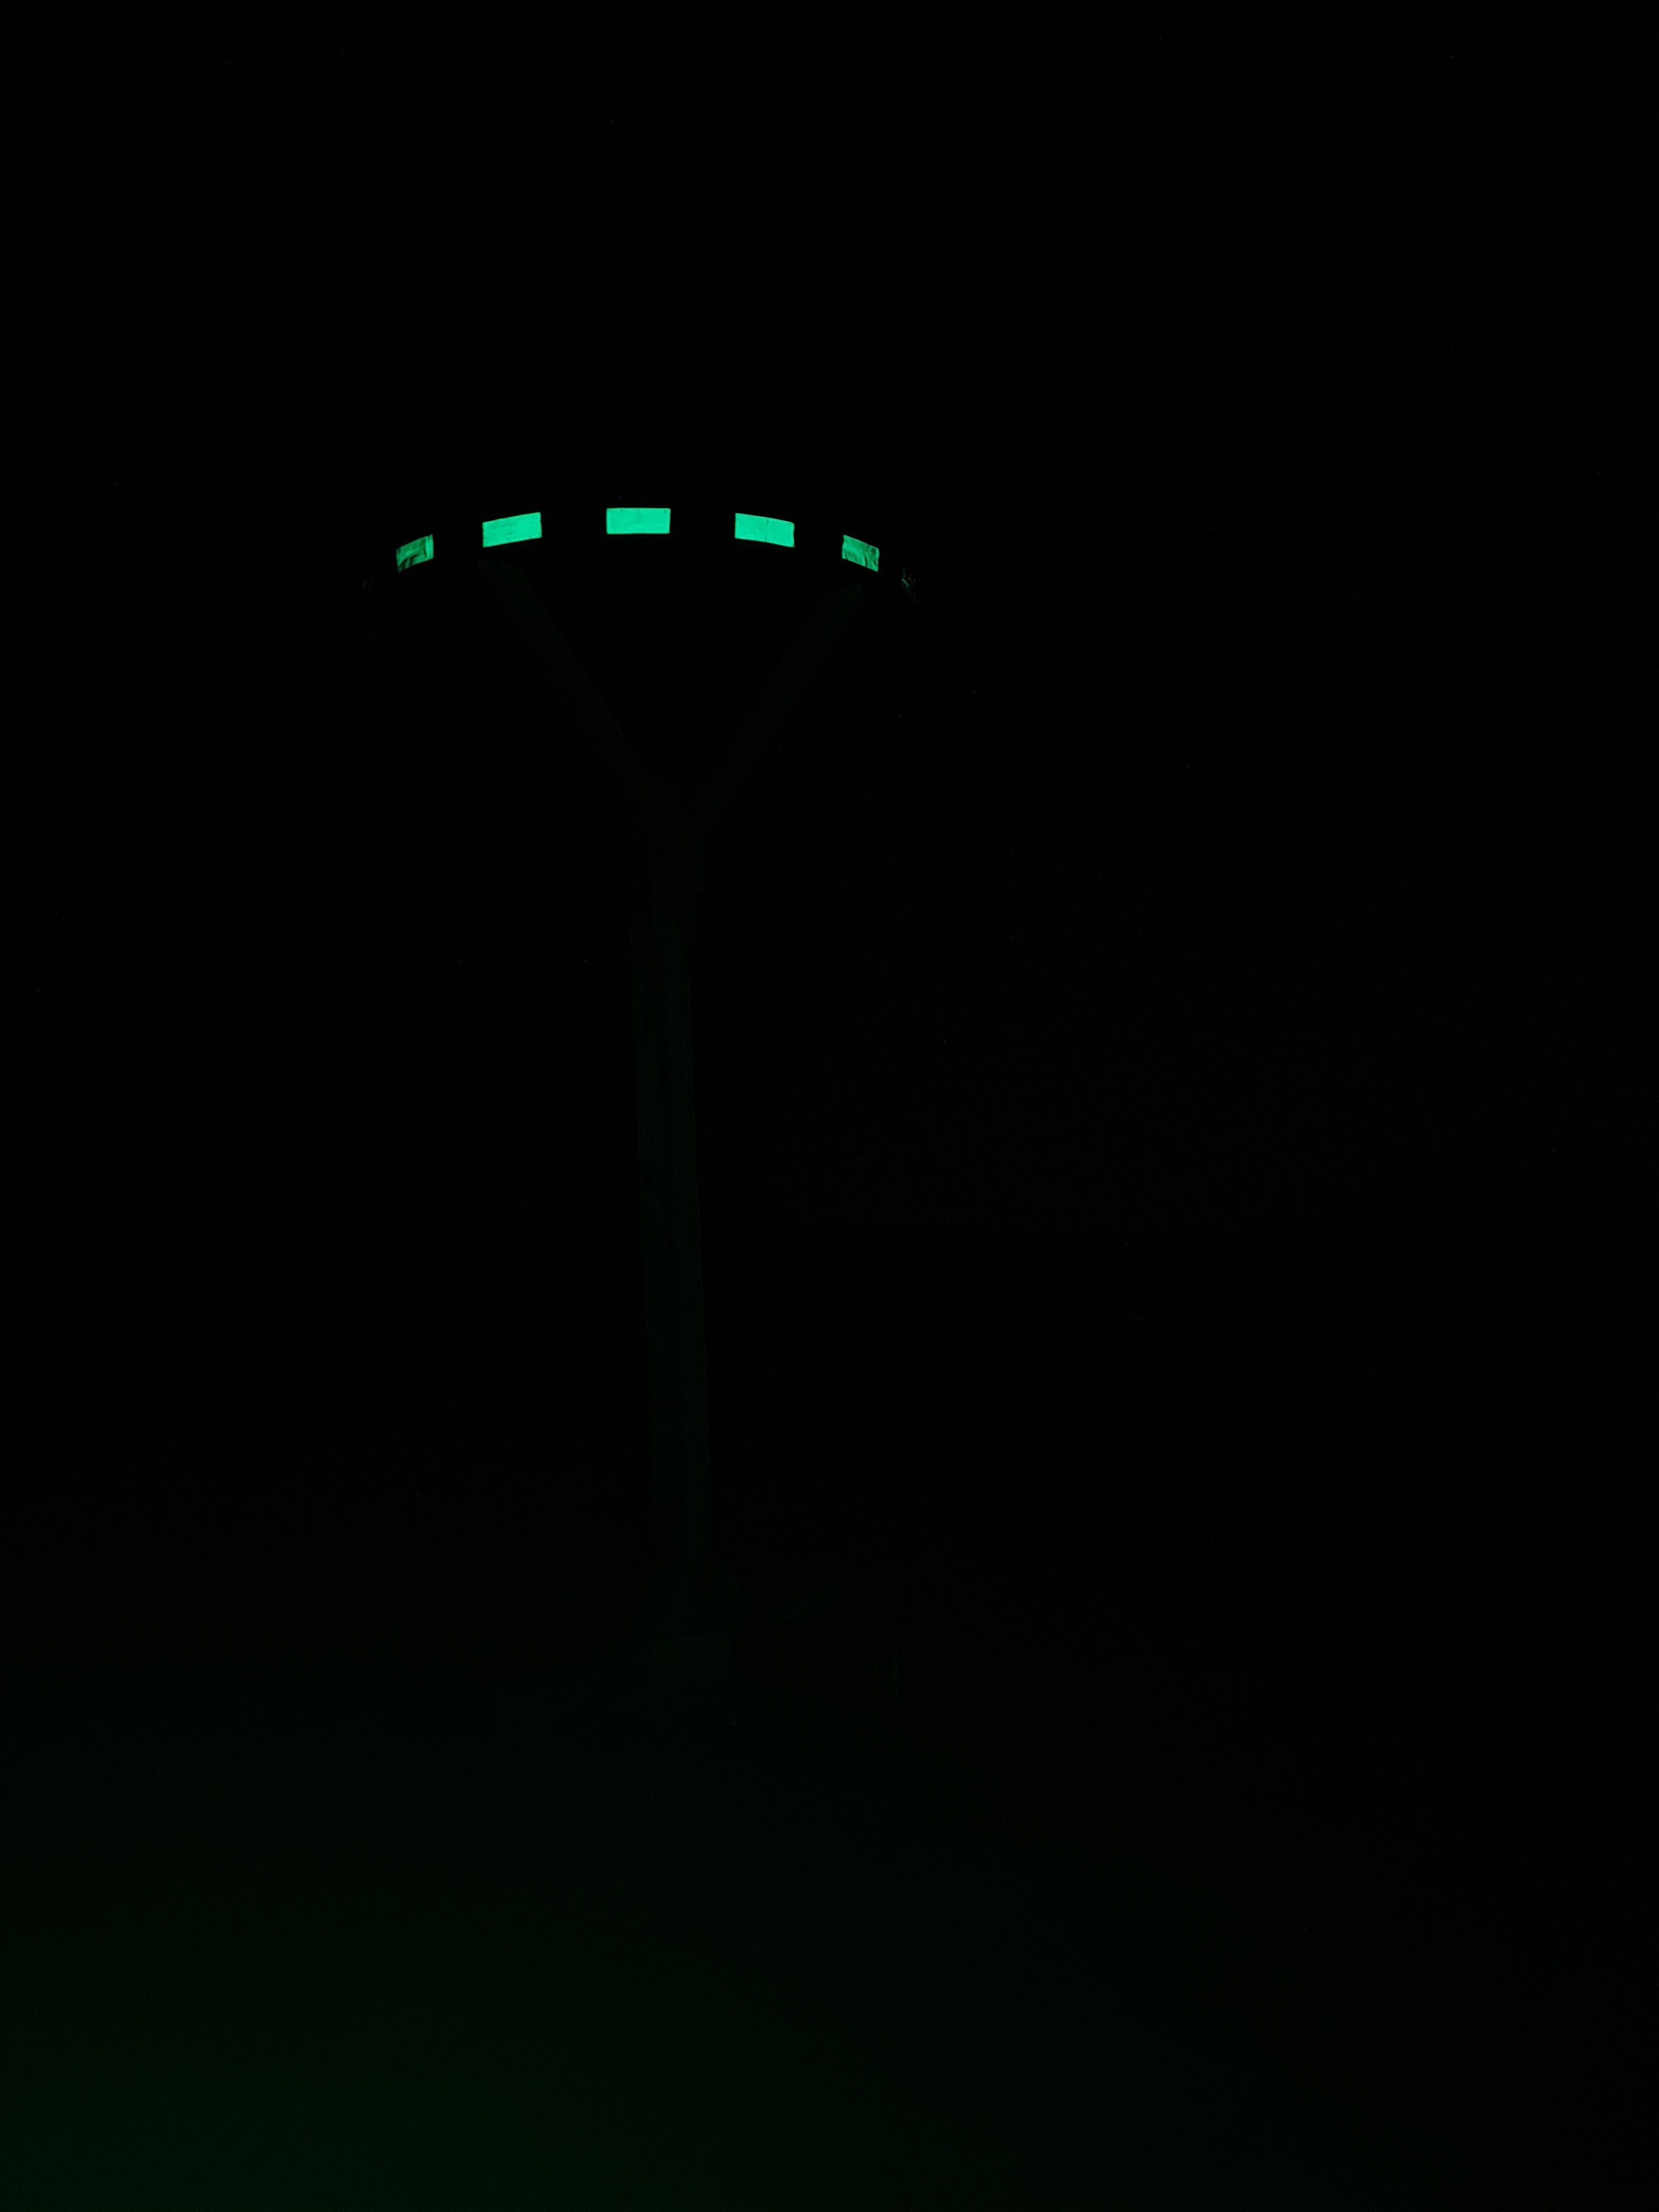hoop: (394, 502, 885, 577)
